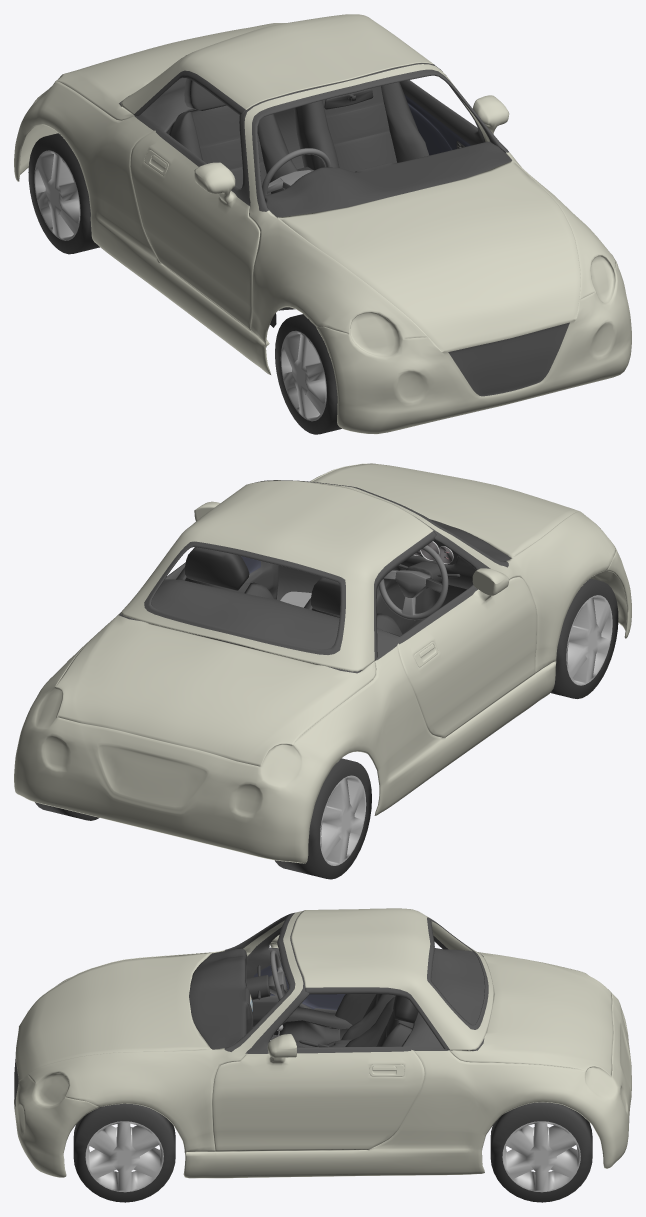
File: Car_Prot.fbx
3 renders of one model, top to bottom at view 1: azimuth 30°, elevation 25°; view 2: azimuth 150°, elevation 25°; view 3: azimuth 270°, elevation 25°, orthographic. The views are drawn at different scales.
Visible parts, largest first — view 1: CarBody, Roof, Wheel, DashBoard, Sheet02, Sheet01, Steering; view 2: CarBody, Roof, Wheel, DashBoard, Sheet02, Steering, Sheet01; view 3: CarBody, Wheel, Roof, DashBoard, Sheet01, Sheet02, Steering.
Boxes of the visible parts, <box> form: CarBody: <box>14,23,631,434</box>; Roof: <box>121,14,434,115</box>; Wheel: <box>28,133,341,434</box>; DashBoard: <box>166,108,511,327</box>; Sheet02: <box>293,82,429,171</box>; Sheet01: <box>167,78,297,194</box>; Steering: <box>262,148,331,195</box>; CarBody: <box>14,463,631,863</box>; Roof: <box>121,480,436,671</box>; Wheel: <box>35,578,618,879</box>; DashBoard: <box>276,519,511,634</box>; Sheet02: <box>176,547,273,598</box>; Steering: <box>378,545,448,620</box>; Sheet01: <box>304,577,402,636</box>; CarBody: <box>14,910,631,1178</box>; Wheel: <box>73,1102,592,1202</box>; Roof: <box>291,908,493,1050</box>; DashBoard: <box>189,948,352,1049</box>; Sheet01: <box>274,994,395,1047</box>; Sheet02: <box>345,995,418,1046</box>; Steering: <box>268,950,287,1000</box>.
Size of the model in its own units: 351 by 273 by 732.
Materials: 21 (1 with a texture image).
